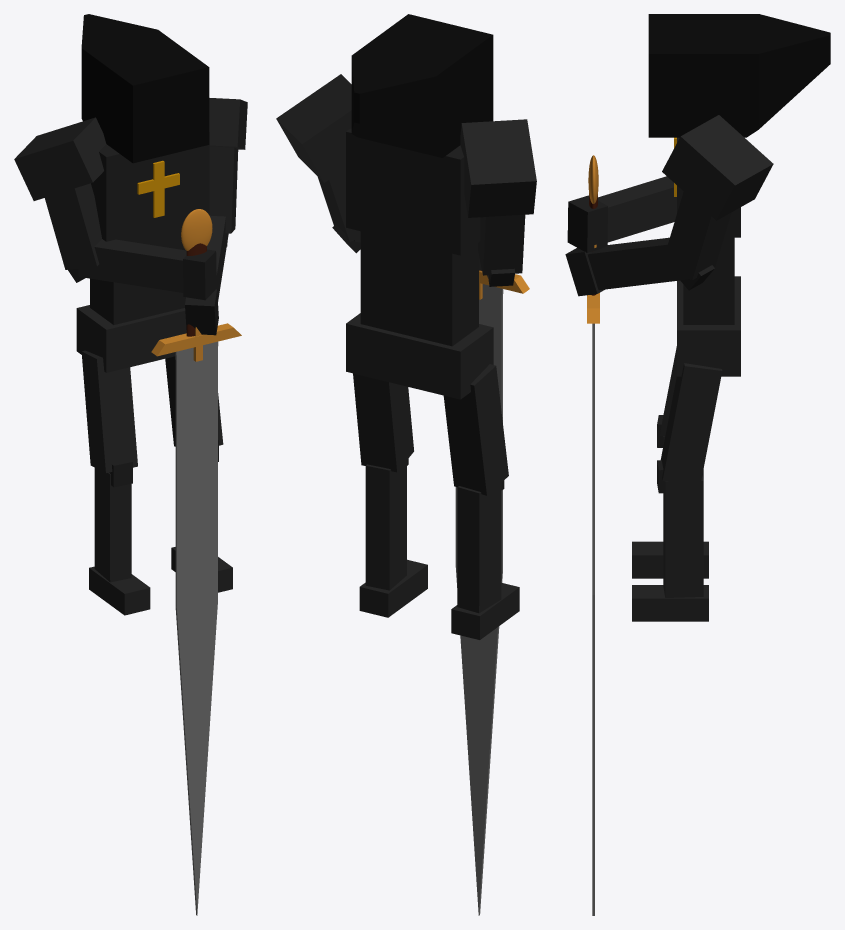
Rendered from cleric.obj.
3 views of the same model, side by side, from view 1: azimuth 30°, elevation 25°; view 2: azimuth 150°, elevation 25°; view 3: azimuth 270°, elevation 25° (orthographic). The views are drawn at different scales.
Parts seen in each view (by area): view 1: Cube.008, Cube.004, Cube.003, Cube.002, Cube.001; view 2: Cube.008, Cube.003, Cube.004; view 3: Cube.008, Cube.003, Cube.004.
Part boxes in pixels (box(x1,y1,x2,y2)): Cube.008: box(14, 98, 247, 615); Cube.004: box(151, 209, 241, 915); Cube.003: box(81, 14, 209, 163); Cube.002: box(153, 160, 164, 217); Cube.001: box(137, 173, 179, 194); Cube.008: box(276, 74, 536, 639); Cube.003: box(351, 14, 493, 157); Cube.004: box(455, 270, 529, 915); Cube.008: box(565, 115, 773, 621); Cube.003: box(648, 14, 830, 137); Cube.004: box(587, 155, 599, 915).
Size of what is drawn, in the model's own units: 11.35 by 38 by 10.35.
